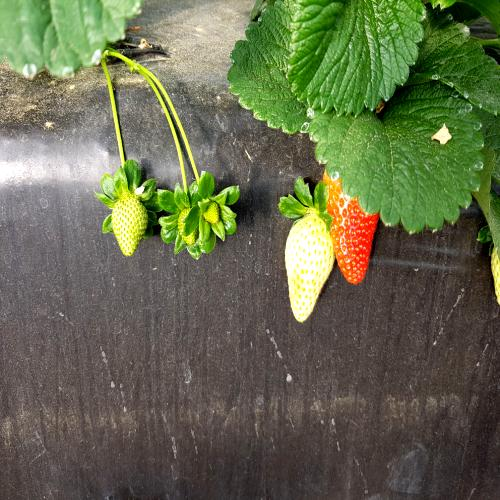ripe: (320, 154, 385, 288)
unripe: (280, 217, 335, 329)
